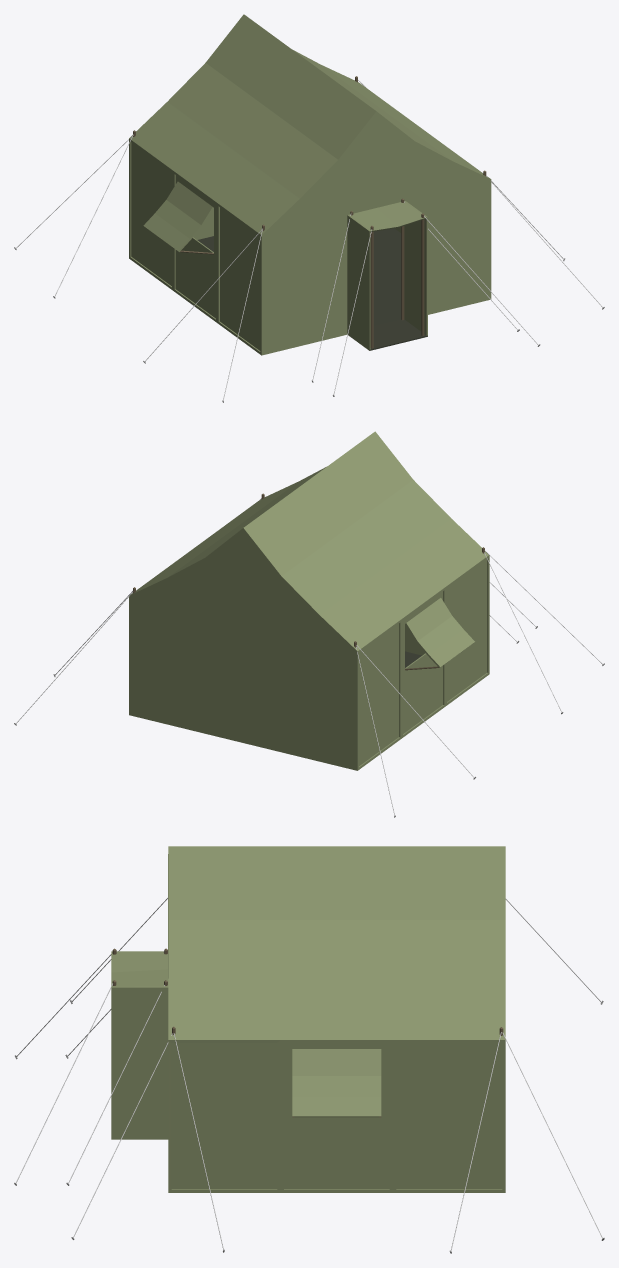
The model's file is Tent.fbx.
The picture shows the model from 3 angles, top to bottom: view 1: azimuth 30°, elevation 25°; view 2: azimuth 150°, elevation 25°; view 3: azimuth 270°, elevation 25°; orthographic projection. The views are drawn at different scales.
Visible parts, largest first — view 1: Tent; view 2: Tent; view 3: Tent.
Boxes of the visible parts, box(x1,y1,x2,y2) form: Tent: box(14, 14, 604, 402); Tent: box(14, 431, 604, 817); Tent: box(14, 846, 604, 1253).
Bounding box in the file's own units: 596 × 291 × 564.
